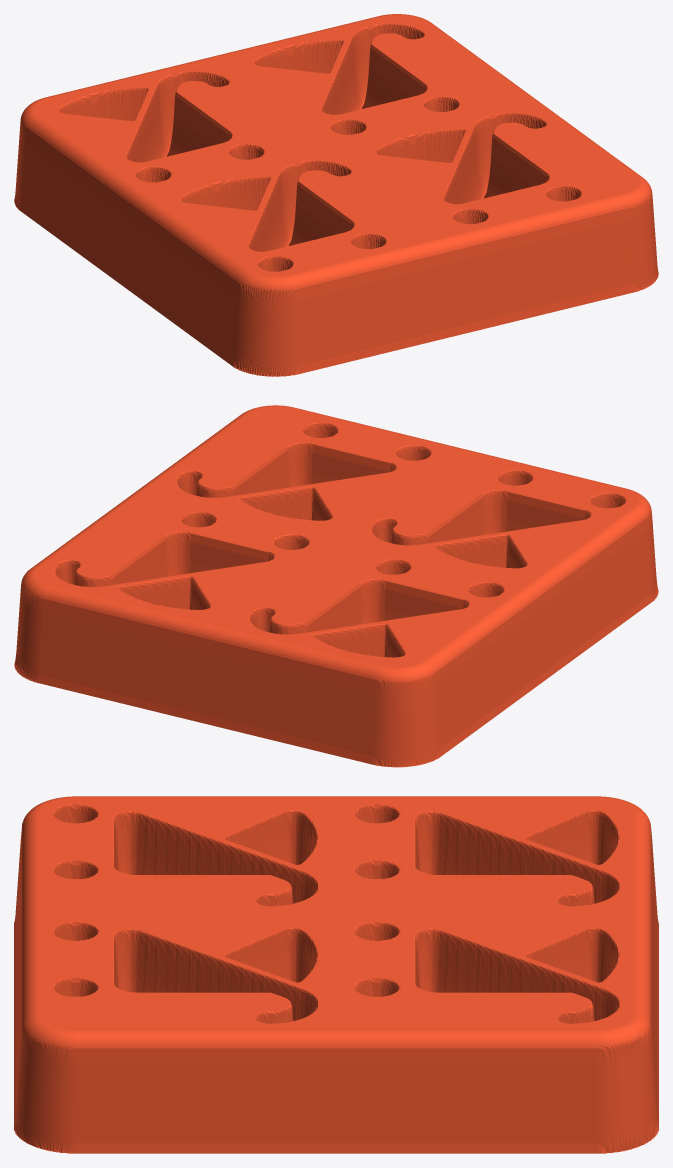
File: mold.glb
3 renders of one model, top to bottom at view 1: azimuth 30°, elevation 25°; view 2: azimuth 150°, elevation 25°; view 3: azimuth 270°, elevation 25°, orthographic. The views are drawn at different scales.
Parts seen in each view (by area): view 1: geometry_0; view 2: geometry_0; view 3: geometry_0.
Boxes of the visible parts, x1,y1,x2,y2 form: geometry_0: (14,14,658,376); geometry_0: (14,405,658,767); geometry_0: (14,796,658,1153).
Bounding box in the file's own units: 0.0874 × 0.0182 × 0.0942.
